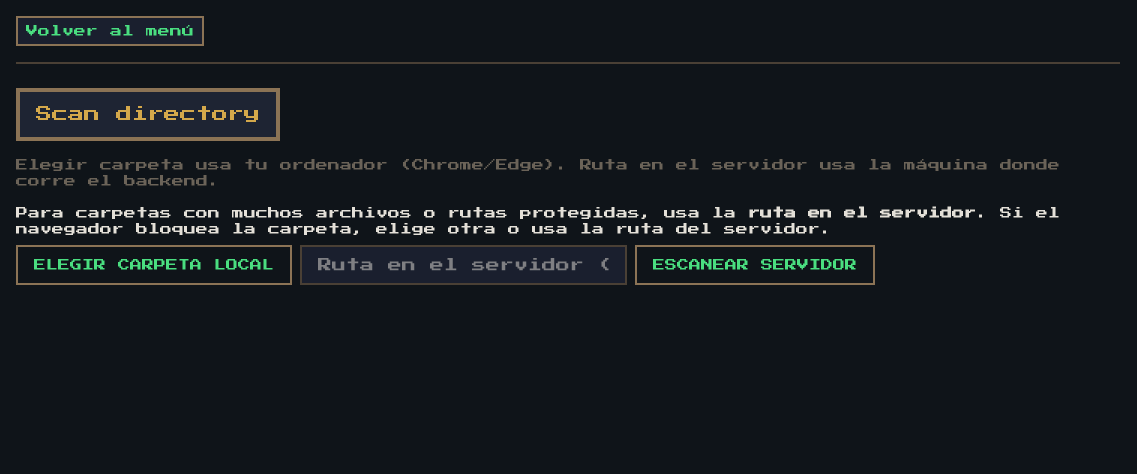
Test: Scan › muestra resultados tras escaneo exitoso
This screenshot has width=1137, height=474.
Type "/data" into the field with placeholder "Ruta en el servidor (ej: /ruta/local)" at [464, 265], box [300,245,627,285]
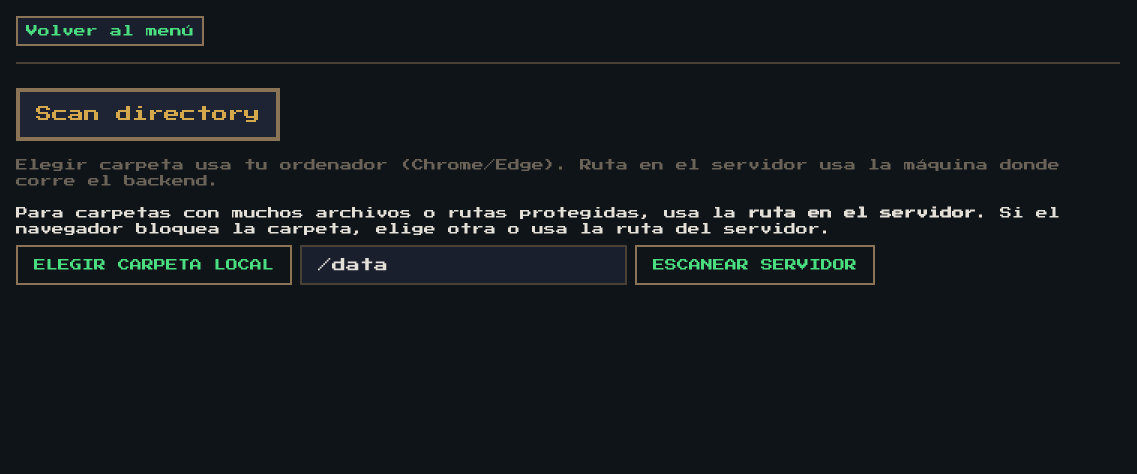
Click the button "ESCANEAR SERVIDOR" at [755, 265], box [635,245,875,285]
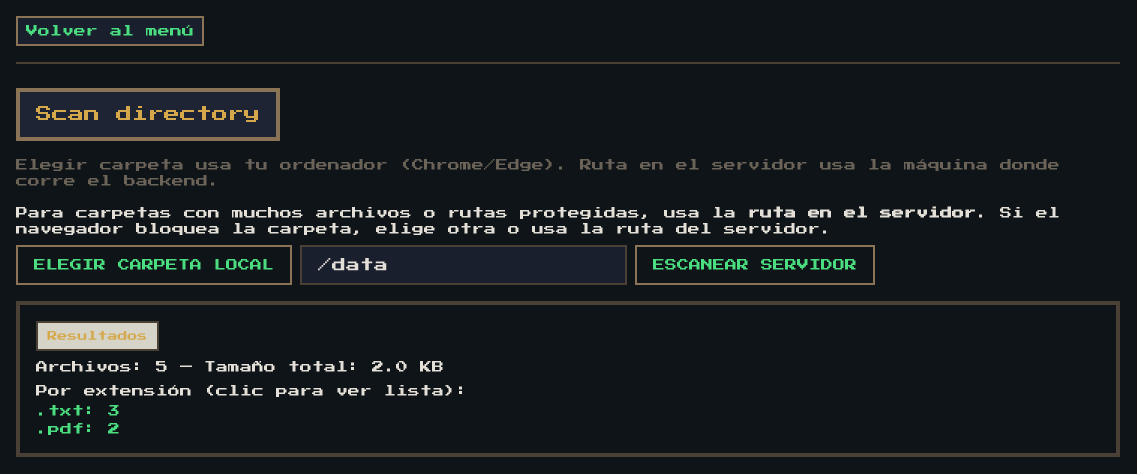
Expected: the heading "Resultados" is shown, [36,321,159,351]
Expected: the text "Archivos: 5 — Tamaño total: 2.0 KB" is shown, [36,361,444,373]
Expected: the button ".txt: 3" is shown, [36,403,120,419]
